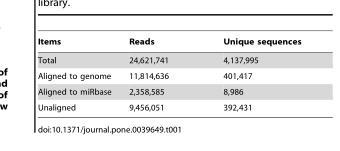table: (36, 36, 300, 111)
table column: (195, 36, 300, 111), (36, 36, 119, 111), (119, 36, 195, 111)
table column header: (36, 36, 300, 50)
table row: (36, 50, 300, 67), (36, 67, 300, 83), (36, 83, 300, 99), (36, 36, 300, 50), (36, 99, 300, 111)
